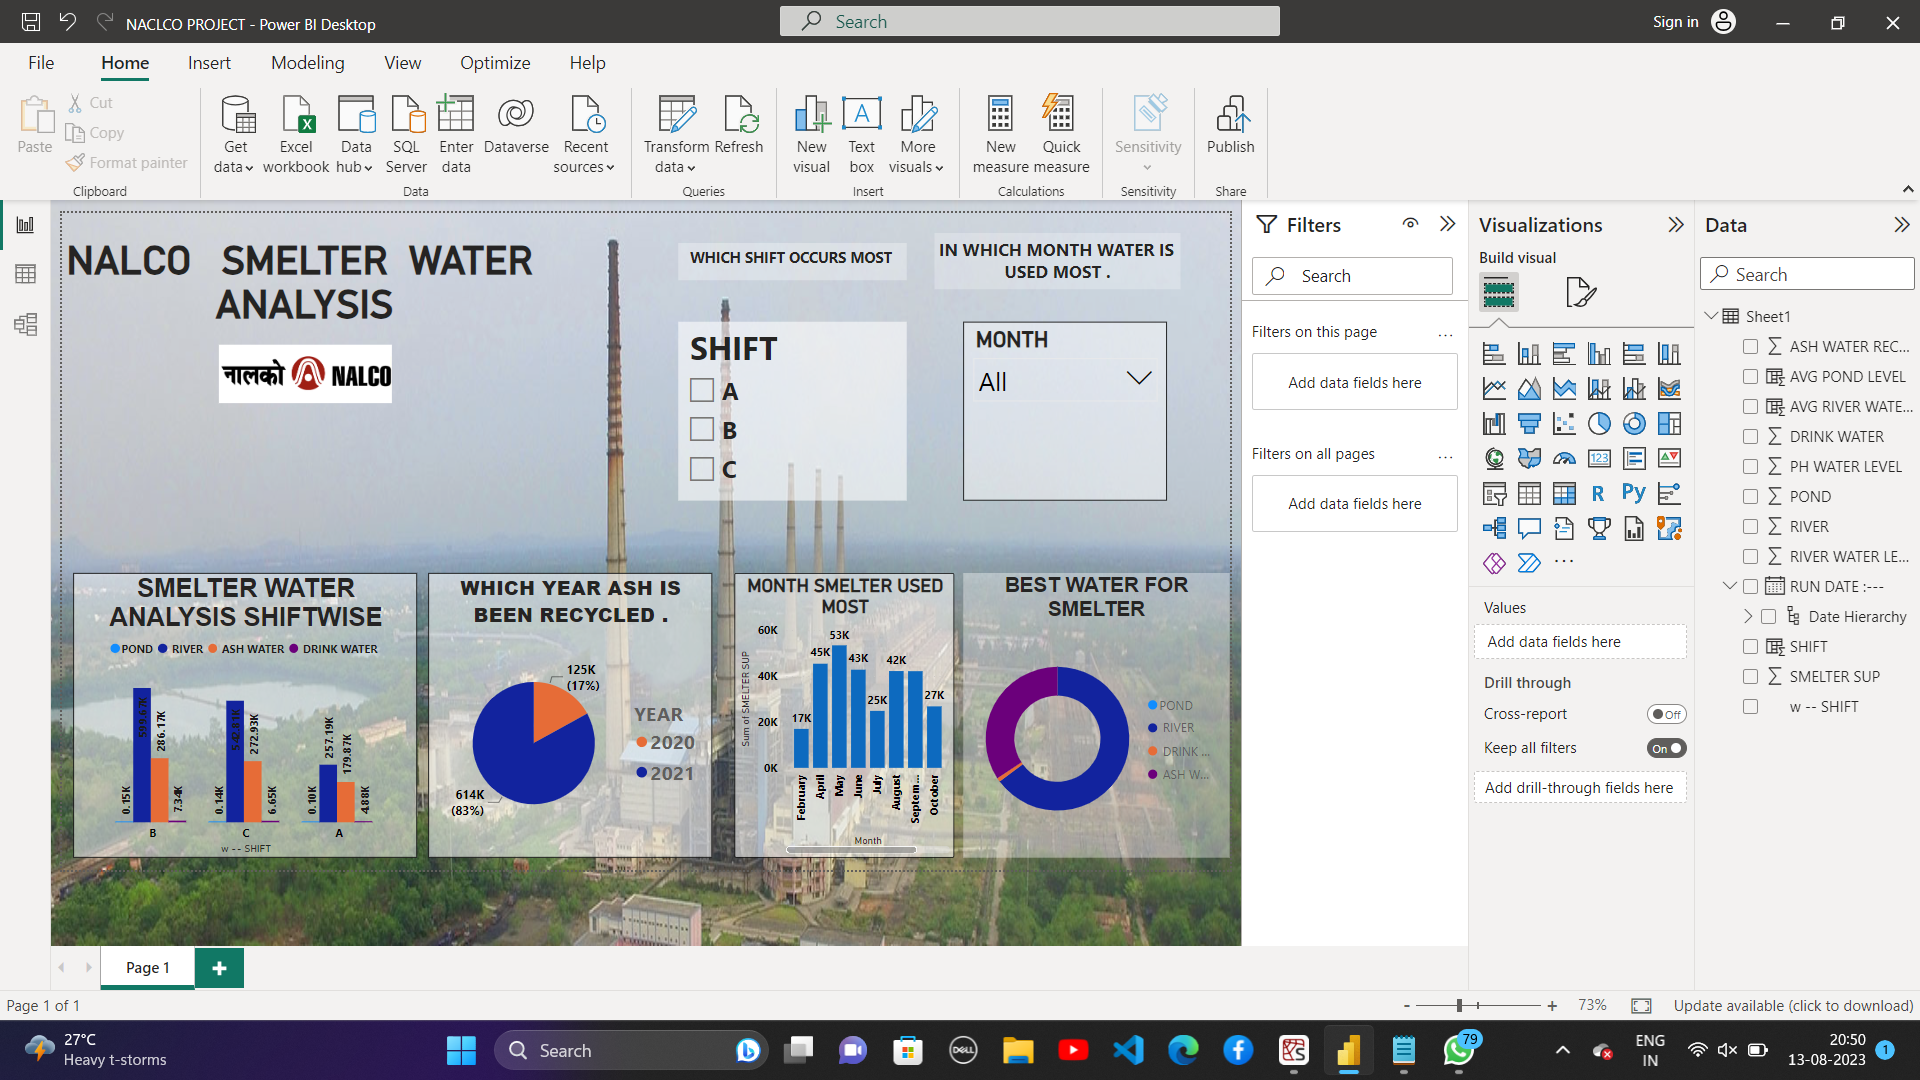

The page's visual inventory and layout, read from the dashboard file:
{"tool":"powerbi","page":{"name":"Page 1","canvas":[1280,720],"ordinal":0},"visuals":[{"type":"textbox","box":[0,21.5,531.2,632.1],"z":0},{"type":"image","box":[166.8,134.5,199,165.4],"z":1000},{"type":"clusteredColumnChart","title":"SMELTER WATER ANALYSIS SHIFTWISE","fields":{"Category":["Sheet1.w -- SHIFT"],"Y":["Sum(Sheet1.POND LEVEL)","Sum(Sheet1.RAW WATER LEVEL)","Sum(Sheet1.ASH WATER RECYCLE)","Sum(Sheet1.DRINK WATER)"]},"box":[12.3,394.5,376.7,312.3],"z":2000},{"type":"donutChart","title":"BEST WATER FOR SMELTER","fields":{"Y":["Sum(Sheet1.POND)","Sum(Sheet1.RIVER)","Sum(Sheet1.DRINK WATER)","Sum(Sheet1.ASH WATER RECYCLE)"]},"box":[987.7,394.5,291.8,312.3],"z":3000},{"type":"slicer","fields":{"Values":["Sheet1.RUN DATE      :---"]},"box":[987.7,119.2,238.4,195.9],"z":4000},{"type":"textbox","box":[956.2,21.9,269.9,61.6],"z":5000},{"type":"slicer","fields":{"Values":["Sheet1.w -- SHIFT"]},"box":[675.3,119.2,250.7,195.9],"z":6000},{"type":"textbox","box":[675.3,32.9,250.7,41.1],"z":7000},{"type":"pieChart","title":"WHICH YEAR ASH IS BEEN RECYCLED .","fields":{"Category":["Sheet1.RUN DATE      :---.Variation.Date Hierarchy.Year","Sheet1.RUN DATE      :---.Variation.Date Hierarchy.Quarter","Sheet1.RUN DATE      :---.Variation.Date Hierarchy.Month","Sheet1.RUN DATE      :---.Variation.Date Hierarchy.Day","Sheet1.ASH WATER RECYCLE"],"Y":["Sum(Sheet1.ASH WATER RECYCLE)"]},"box":[401.4,394.5,311,312.3],"z":8000},{"type":"columnChart","title":"MONTH SMELTER USED MOST ","fields":{"Category":["Sheet1.RUN DATE      :---.Variation.Date Hierarchy.Month"],"Y":["Sum(Sheet1.SMELTER SUP)"]},"box":[737,394.5,241.1,312.3],"z":9000}]}

Visuals, with their boxes in screenshot pixels (x1, y1, x2, y2):
textbox: select_region(45, 36, 803, 938)
image: select_region(283, 197, 567, 433)
"SMELTER WATER ANALYSIS SHIFTWISE" clusteredColumnChart: select_region(63, 568, 600, 1013)
"BEST WATER FOR SMELTER" donutChart: select_region(1454, 568, 1871, 1013)
slicer - Sheet1.RUN DATE      :---: select_region(1454, 175, 1794, 455)
textbox: select_region(1409, 36, 1794, 124)
slicer - Sheet1.w -- SHIFT: select_region(1009, 175, 1366, 455)
textbox: select_region(1009, 52, 1366, 111)
"WHICH YEAR ASH IS BEEN RECYCLED ." pieChart: select_region(618, 568, 1061, 1013)
"MONTH SMELTER USED MOST " columnChart: select_region(1097, 568, 1441, 1013)
